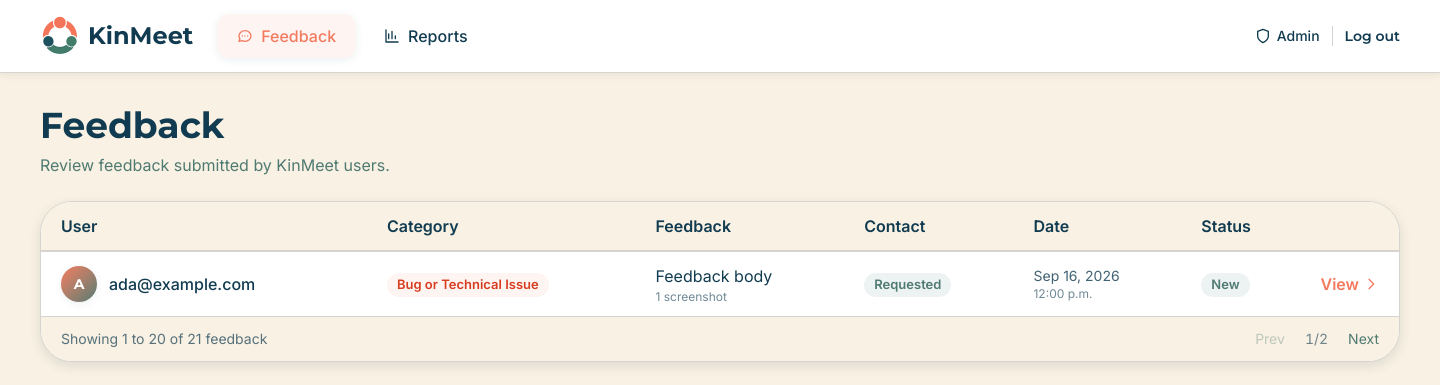
Scenario: AdminPage › uses server totals for ranges and supports next and previous pages
expect the text "Showing 1 to 20 of 21 feedback" is shown: met, box [61, 329, 267, 349]
expect the button with aria-label "previous page" is disabled: met, box [1255, 329, 1285, 349]
Click the button with aria-label "next page" at (1364, 339), box [1348, 329, 1379, 349]
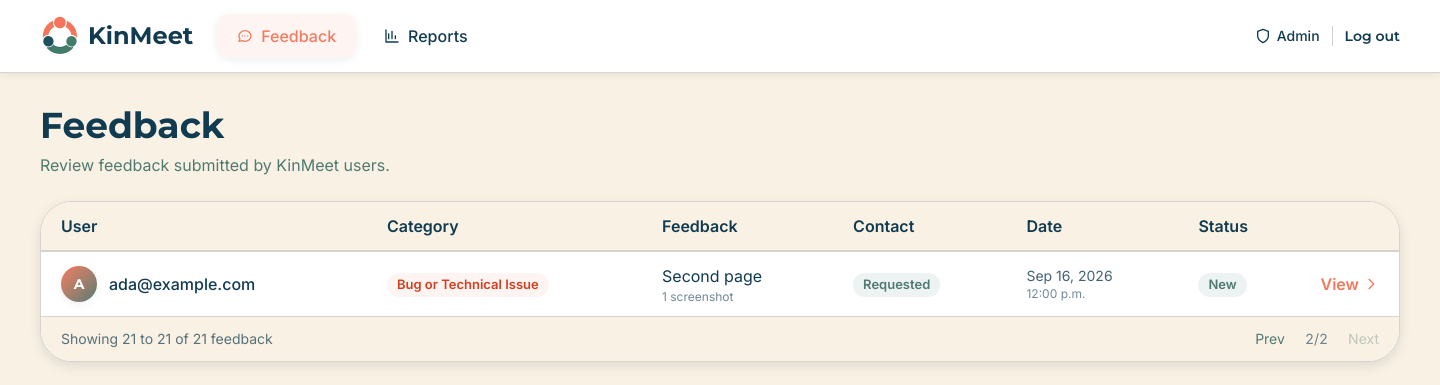
expect the text "Showing 21 to 21 of 21 feedback" is shown: met, box [61, 329, 273, 349]
expect the button with aria-label "next page" is disabled: met, box [1348, 329, 1379, 349]
Click the button with aria-label "previous page" at (1270, 339), box [1255, 329, 1285, 349]
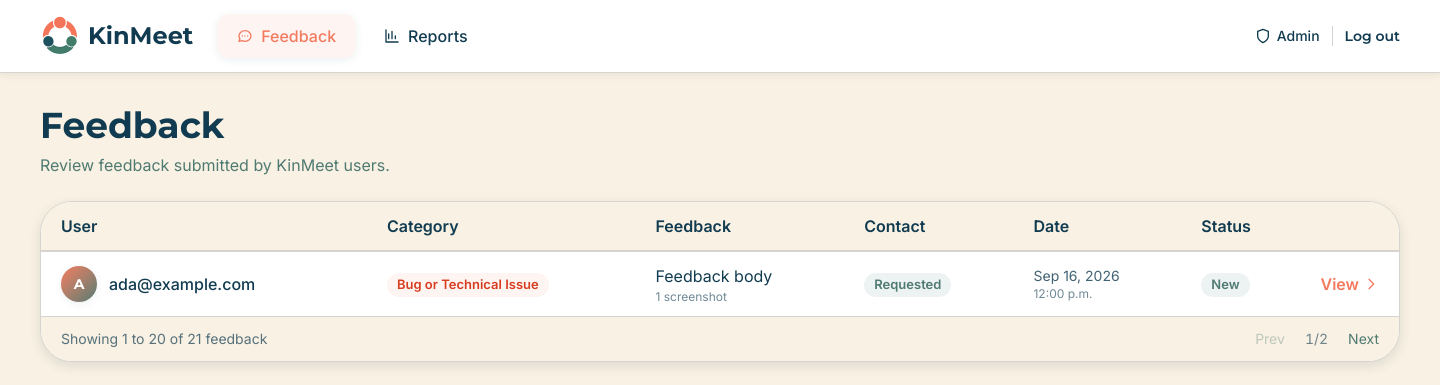
expect the text "Showing 1 to 20 of 21 feedback" is shown: met, box [61, 329, 267, 349]
